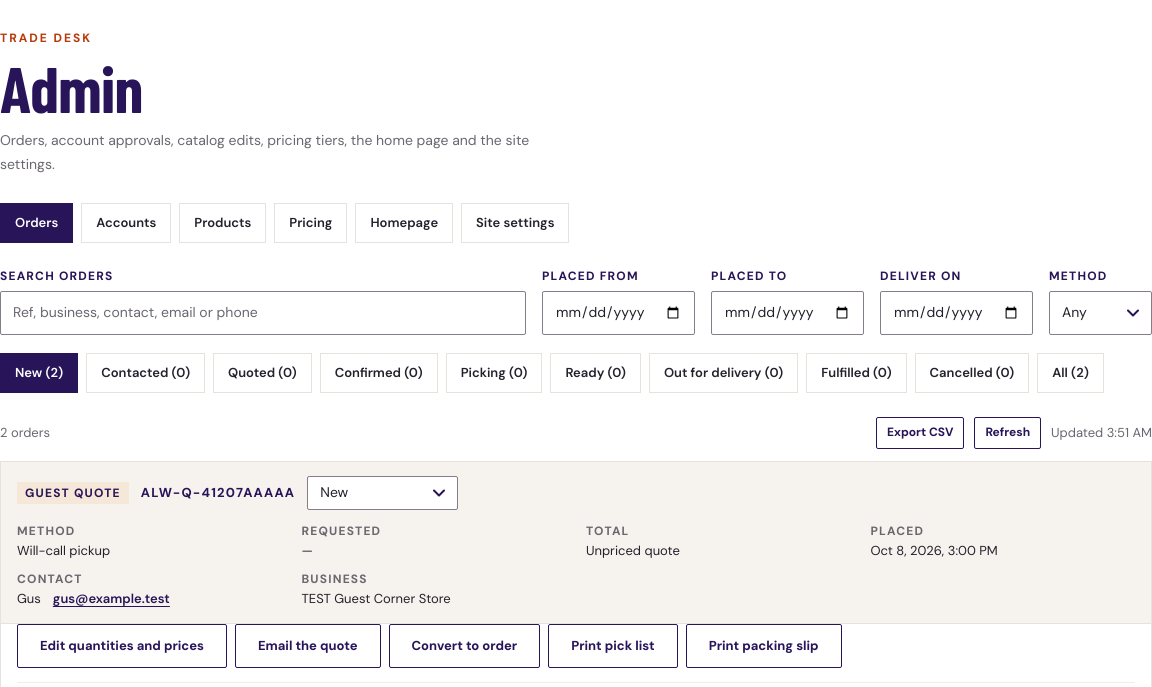
cancelling an order › falls back to the plain update without the function, and then says the reason can’t be stored and is optional
Select "Cancelled" in the dropdown named "Status for ALW-Q-41207AAAAA" at (383, 493), box [307,476,458,510]
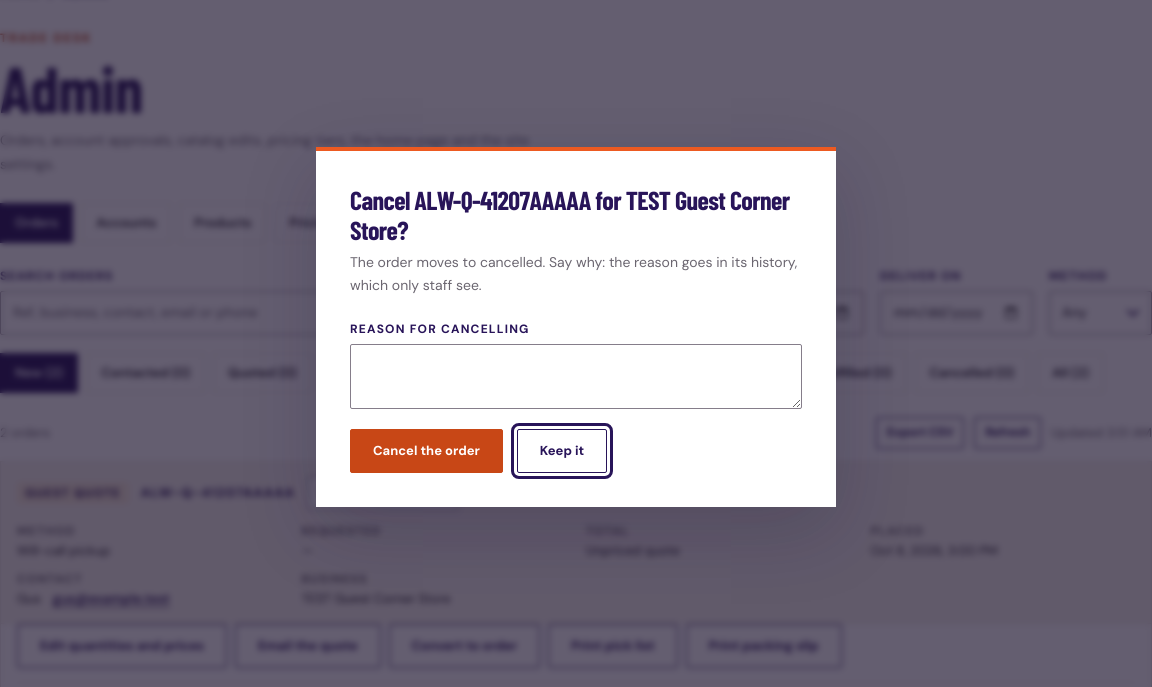
Type "Duplicate" into the text box labelled "Reason for cancelling" at (576, 377), box [350,344,802,409]
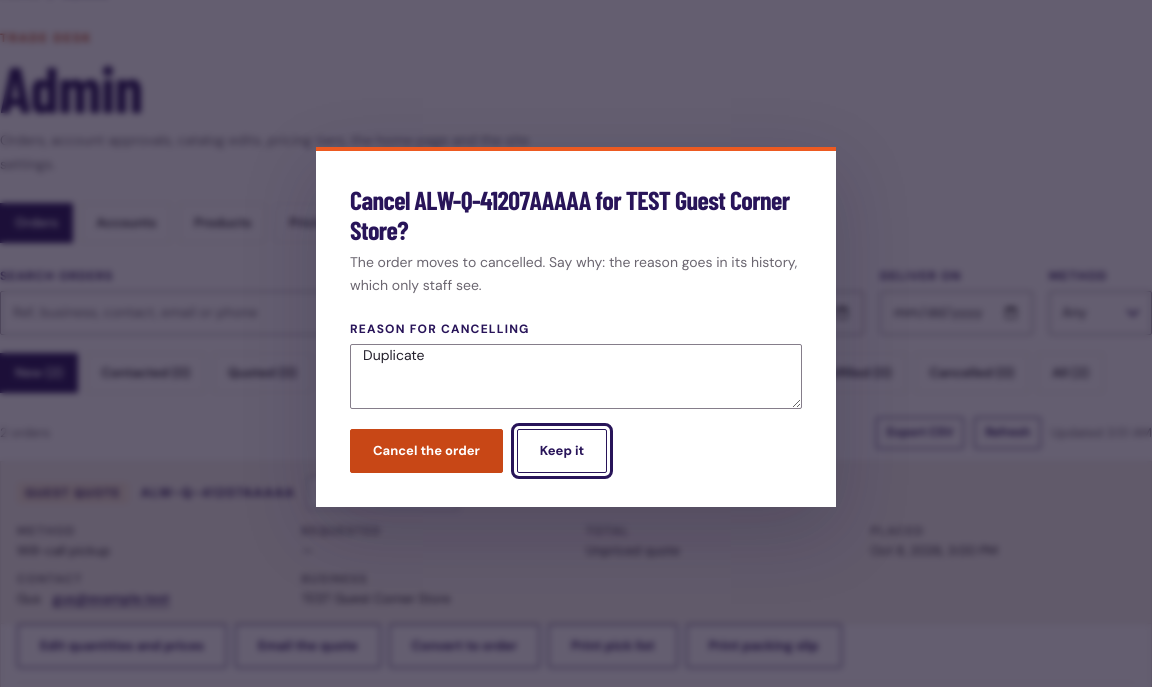
Click the button "Cancel the order" at (426, 451), box [350,429,503,473]
(page scrolled)
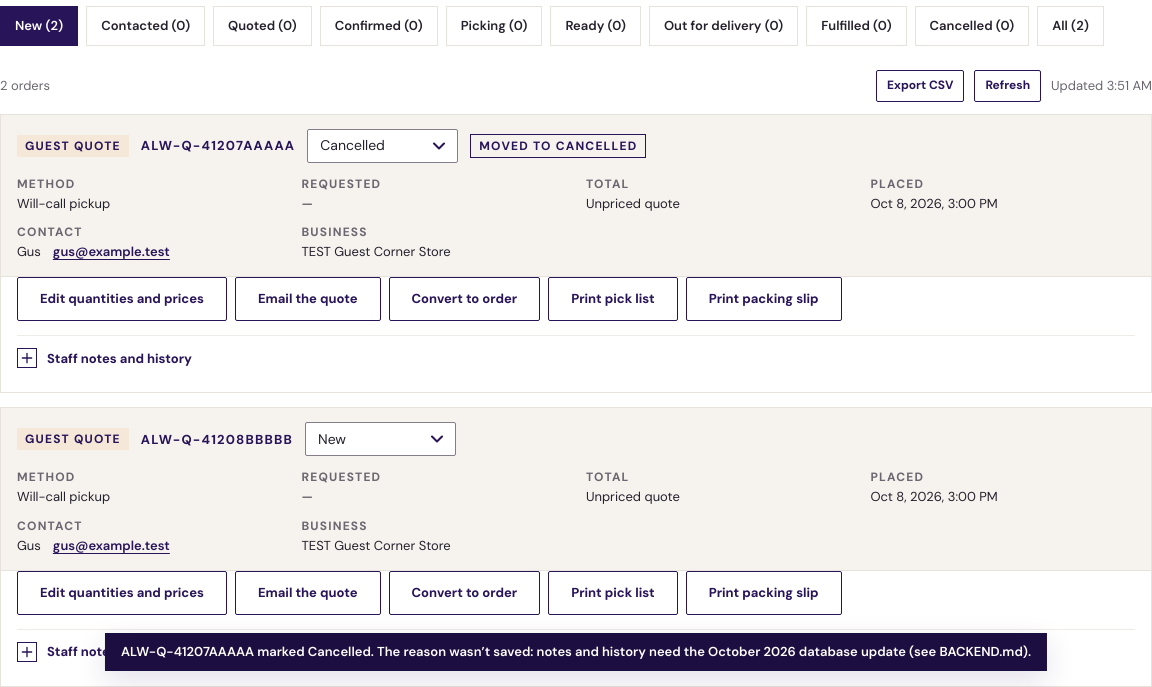
Note: The next cancellation knows the reason has nowhere to go.
Select "Cancelled" in the dropdown named "Status for ALW-Q-41208BBBBB" at (380, 439), box [305,422,456,456]
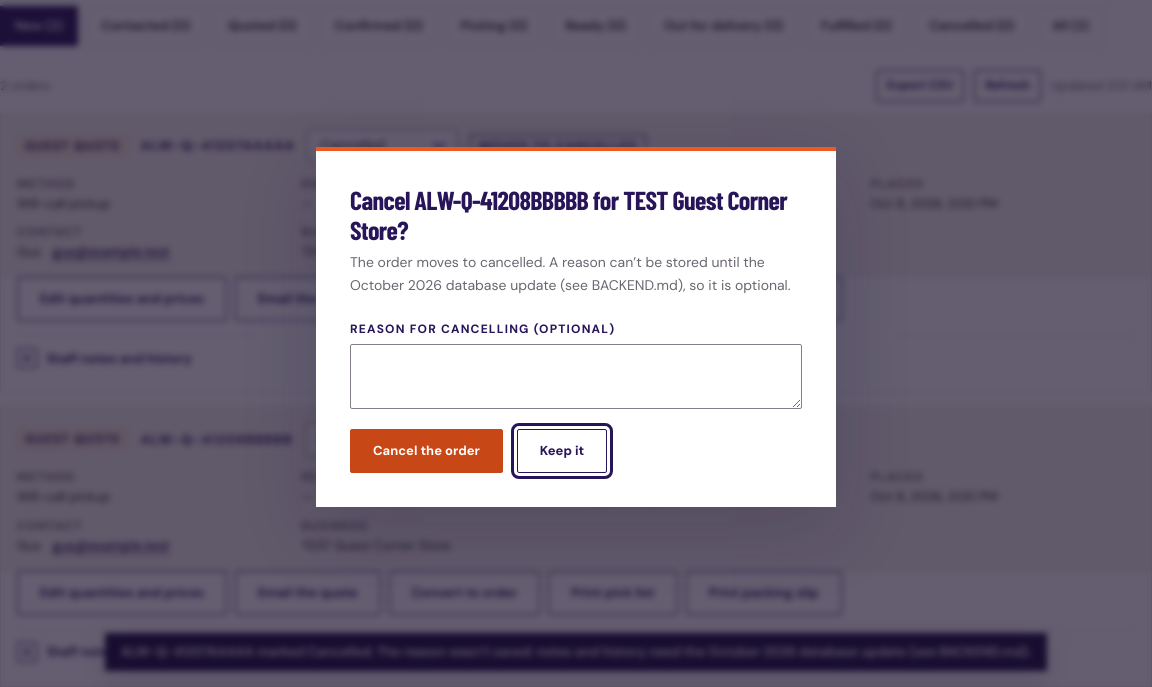
Expected: the text "A reason can’t be stored until the October 2026 database update" is shown, [350,253,790,294]
Click the button "Cancel the order" at (426, 451), box [350,429,503,473]
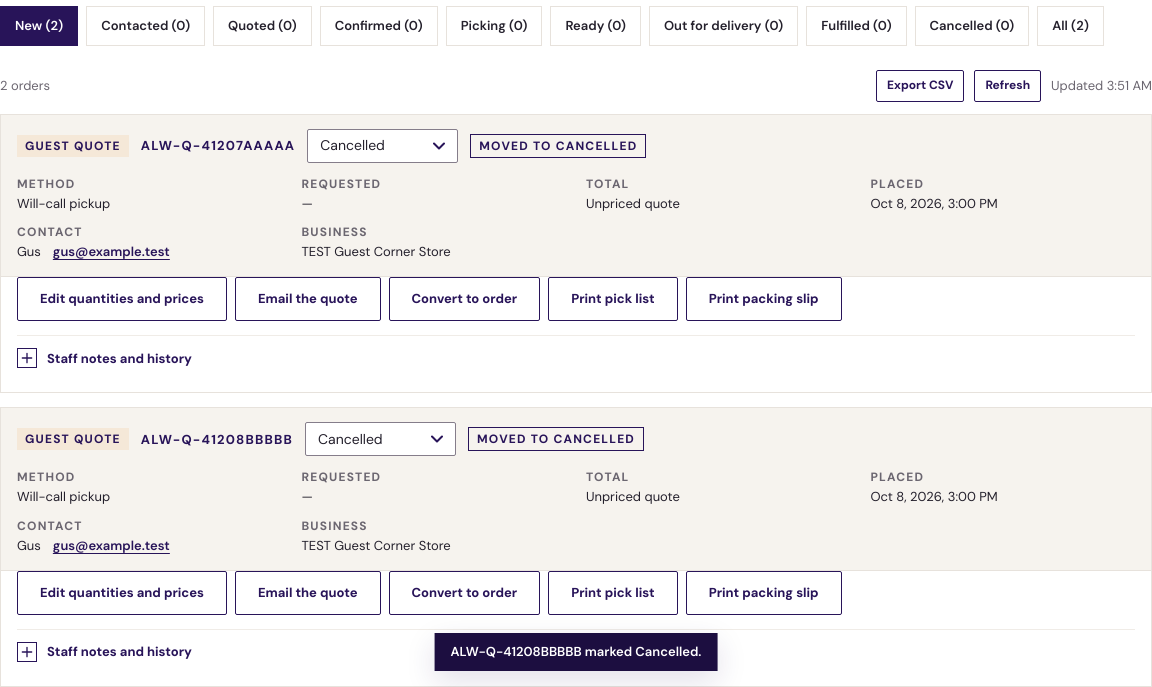
Expected: the message reads "ALW-Q-41208BBBBB marked Cancelled.", [451,643,701,660]
